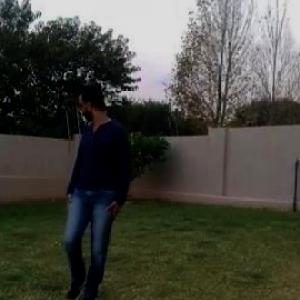follow: (66, 77, 125, 299)
